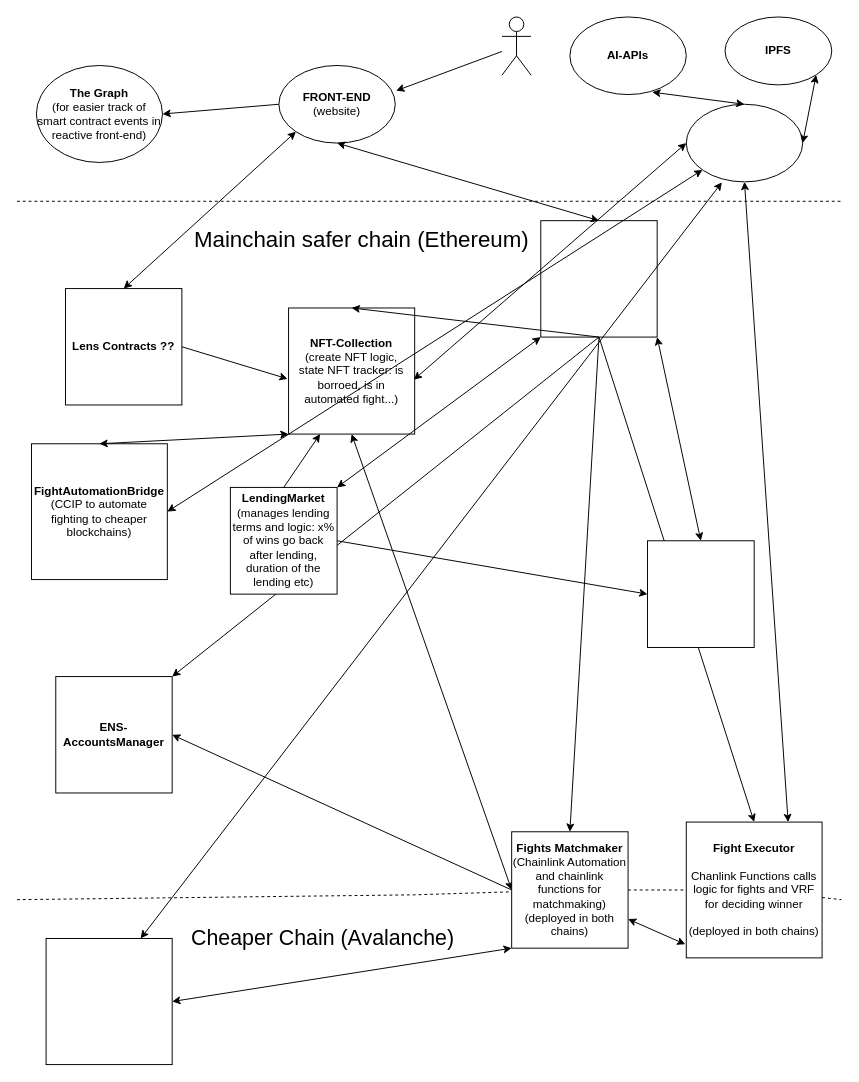
Image size: 859x1082. Some labels were removed from this diagram. Here are the shapes that lost their labels. From the top down, the centre of each, then its label:
At point (516, 45): "User".
At point (744, 142): "DON".
At point (598, 278): "PROXY (only 1 address, better front-end developer experience?)".
At point (700, 593): "Vault (keeps track of all funds from users)".
At point (108, 1001): "FightAutomationContract (Uses chainlink automation and keeps track of funds)".
